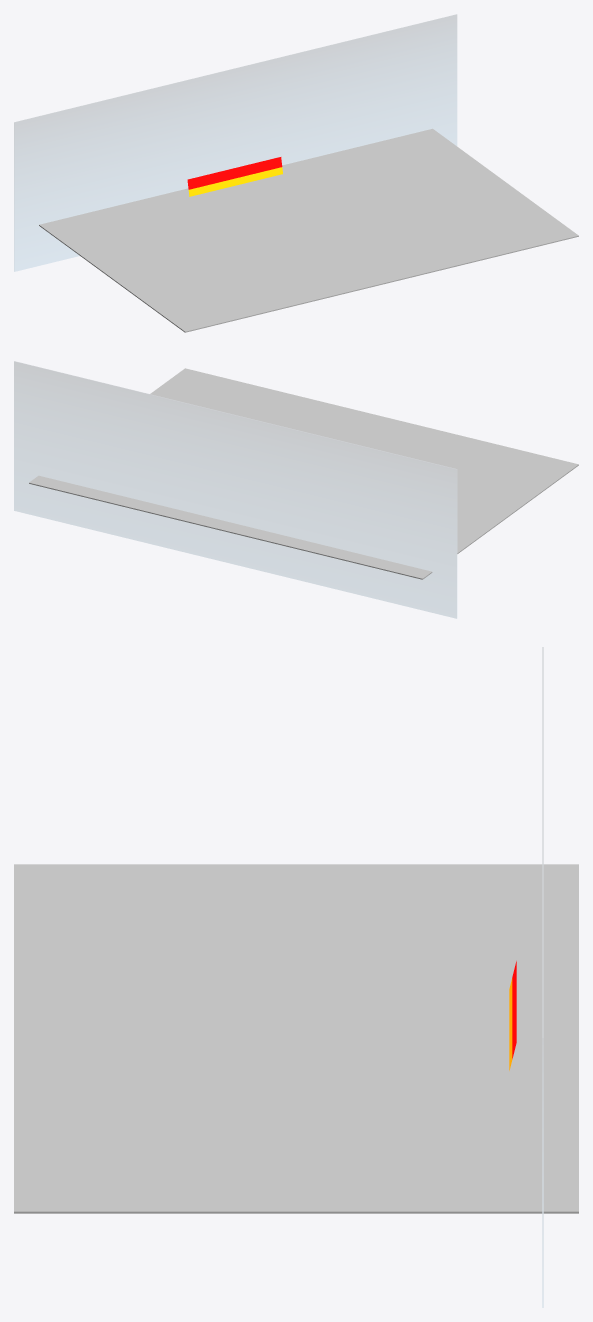
File: f_pride.glb
3 renders of one model, top to bottom at view 1: azimuth 30°, elevation 25°; view 2: azimuth 150°, elevation 25°; view 3: azimuth 270°, elevation 25°, orthographic. The views are drawn at different scales.
Parts seen in each view (by area): view 1: Ground contact / transparent shadow receiver.028, Sky gradient / editable material.028, Flag cloth / full-bleed source fields; view 2: Sky gradient / editable material.028, Ground contact / transparent shadow receiver.028; view 3: Ground contact / transparent shadow receiver.028, Sky gradient / editable material.028.
Part boxes in pixels (x1,y1,x2,y2): Ground contact / transparent shadow receiver.028: (39,128,578,332); Sky gradient / editable material.028: (14,14,457,271); Flag cloth / full-bleed source fields: (187,157,282,196); Sky gradient / editable material.028: (14,361,457,618); Ground contact / transparent shadow receiver.028: (29,368,578,579); Ground contact / transparent shadow receiver.028: (14,864,578,1213); Sky gradient / editable material.028: (542,647,543,1307).
Bounding box in the file's own units: 180 × 58 × 110.
